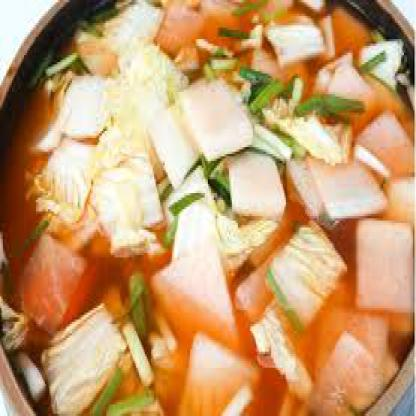nabak Kimchi: (35, 0, 414, 414)
